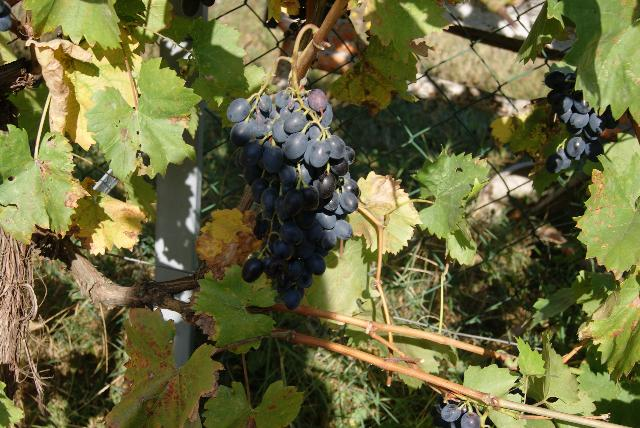grapes: (228, 85, 360, 310), (545, 70, 619, 172)
